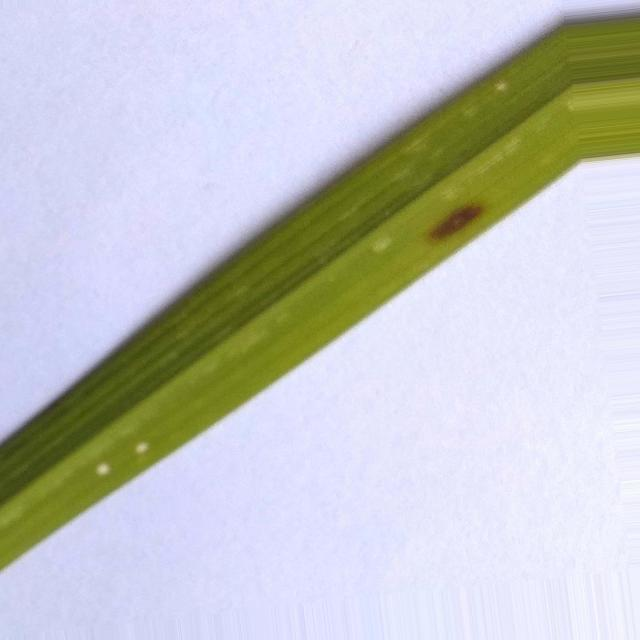Brown_Spot: (430, 204, 484, 239)
